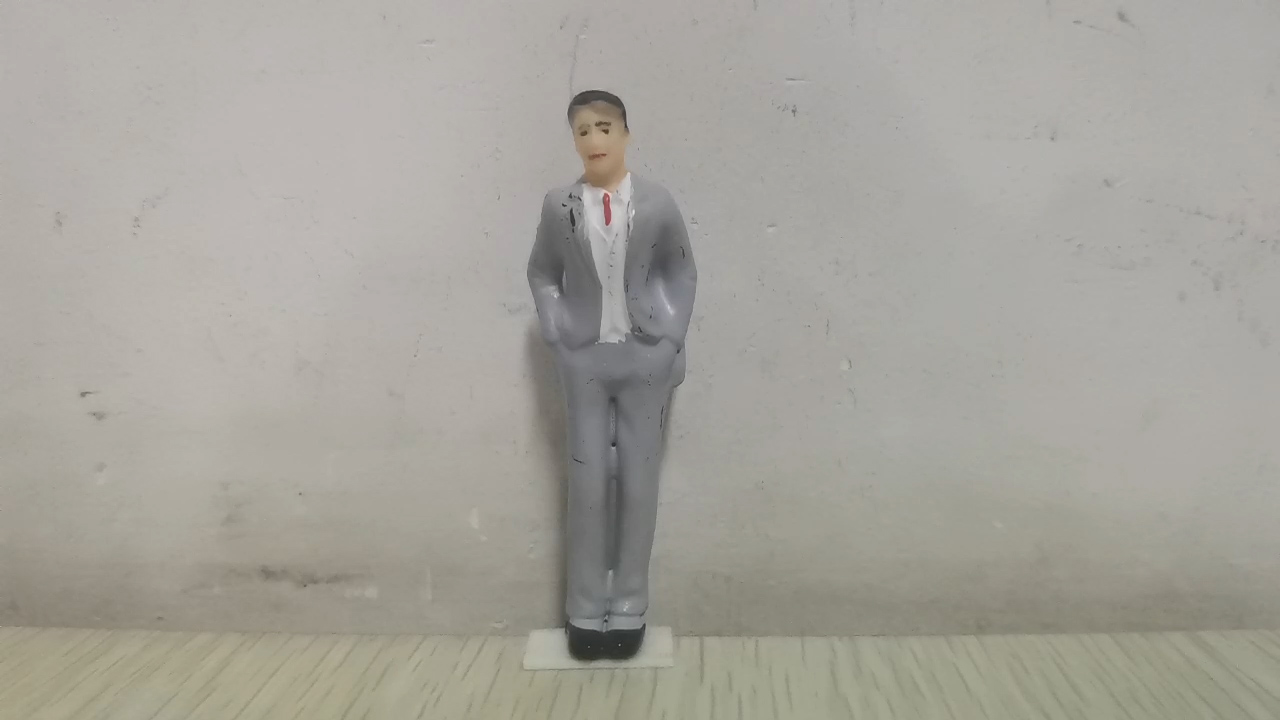person: (523, 88, 701, 661)
